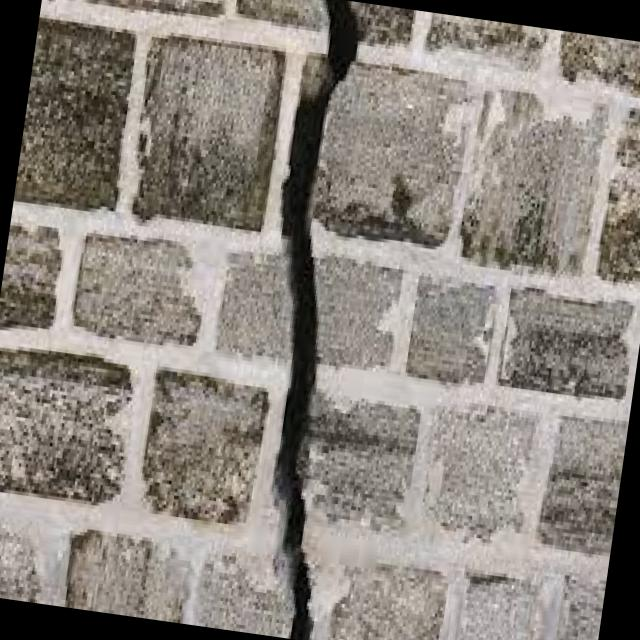crack: (217, 0, 396, 638)
